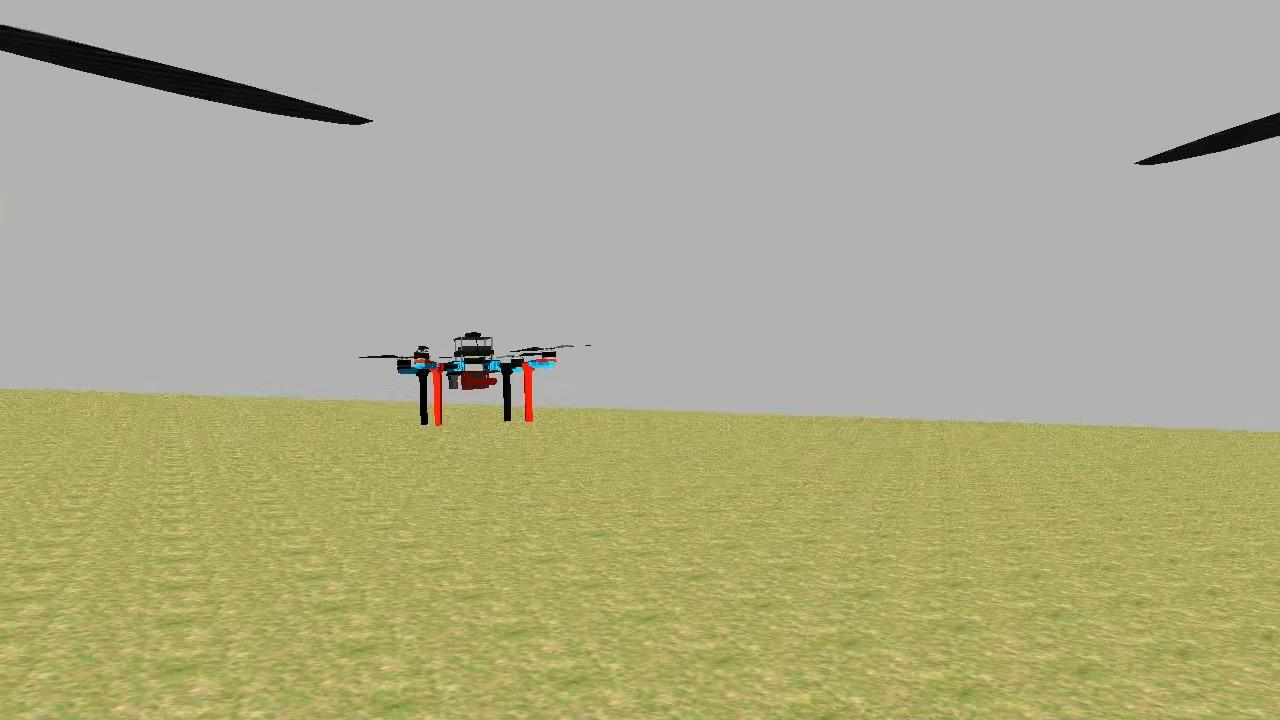UAV: (396, 326, 560, 428)
